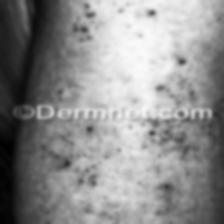Non-Cancerous Skin Condition: (143, 54, 199, 108), (142, 120, 196, 158), (51, 154, 106, 188), (69, 0, 102, 44), (116, 2, 162, 20)
